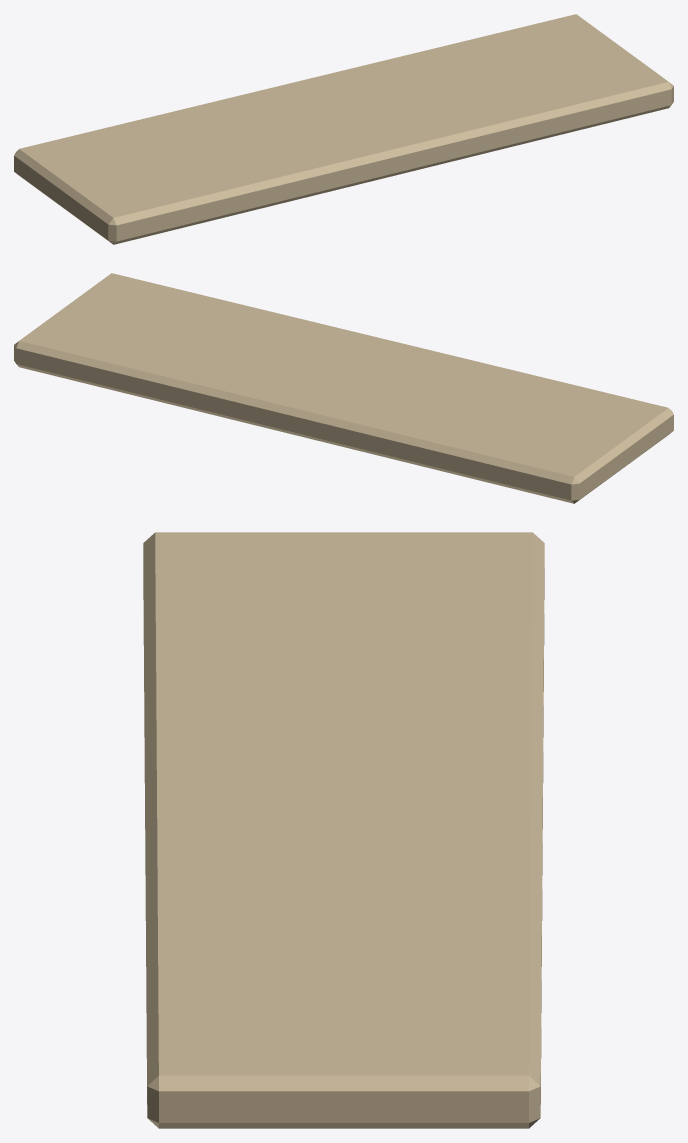
File: entry_step.glb
The picture shows the model from 3 angles, top to bottom: view 1: azimuth 30°, elevation 25°; view 2: azimuth 150°, elevation 25°; view 3: azimuth 270°, elevation 25°; orthographic projection. The views are drawn at different scales.
Visible parts, largest first — view 1: WB002V2_EntranceStep.004; view 2: WB002V2_EntranceStep.004; view 3: WB002V2_EntranceStep.004.
Part boxes in pixels (<box>): WB002V2_EntranceStep.004: <box>14,14,673,244</box>; WB002V2_EntranceStep.004: <box>14,273,673,503</box>; WB002V2_EntranceStep.004: <box>143,532,544,1128</box>.
Size of the model in its own units: 4.4 by 0.2 by 1.35.
